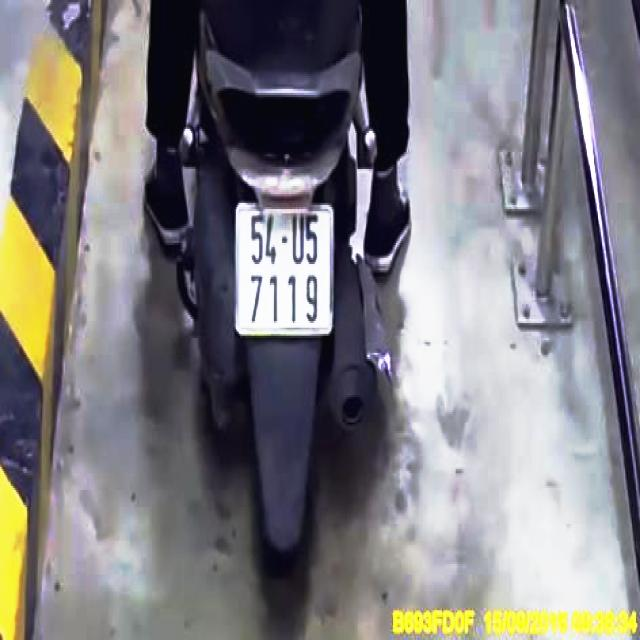license_plate: (237, 208, 334, 332)
